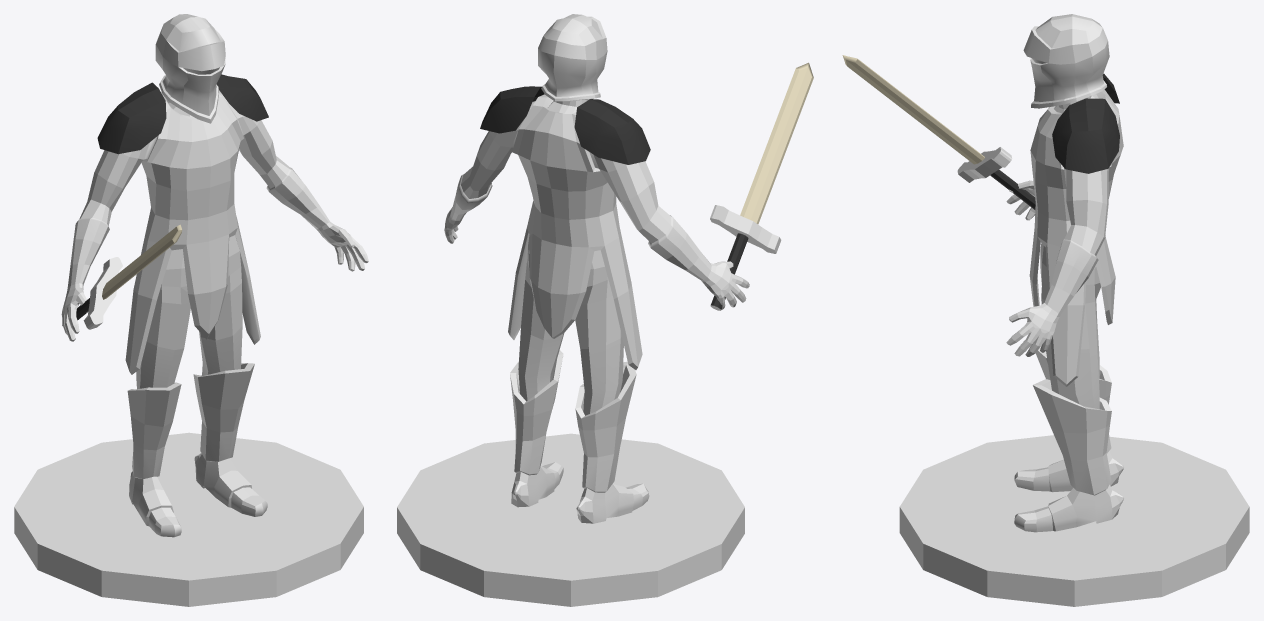
File: warrior_FBX.fbx
The picture shows the model from 3 angles, left to right: view 1: azimuth 30°, elevation 25°; view 2: azimuth 150°, elevation 25°; view 3: azimuth 270°, elevation 25°; orthographic projection.
Parts seen in each view (by area): view 1: warrior_GEO; view 2: warrior_GEO; view 3: warrior_GEO.
Boxes of the visible parts, x1,y1,x2,y2 form: warrior_GEO: [14, 14, 368, 606]; warrior_GEO: [397, 14, 813, 606]; warrior_GEO: [842, 14, 1249, 606].
Bounding box in the file's own units: 121 × 196 × 140.
